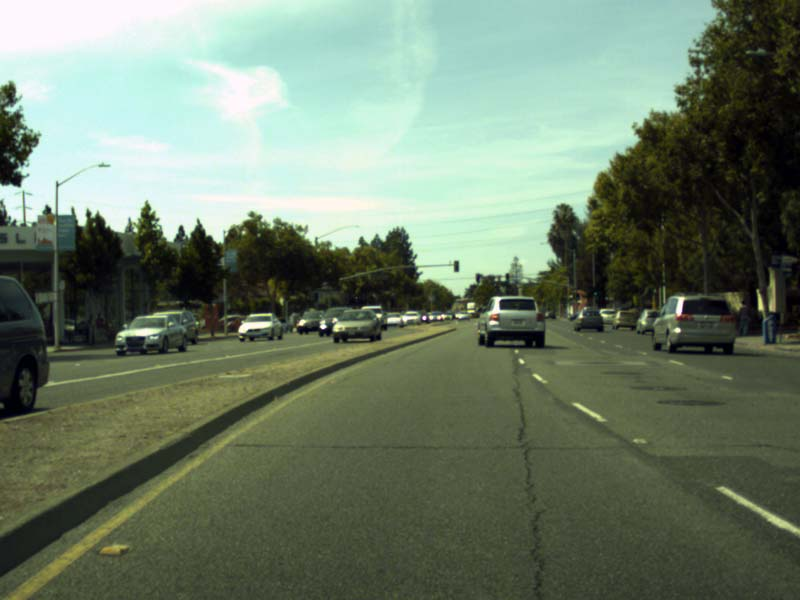Green: (593, 288, 597, 296), (506, 274, 508, 281)
